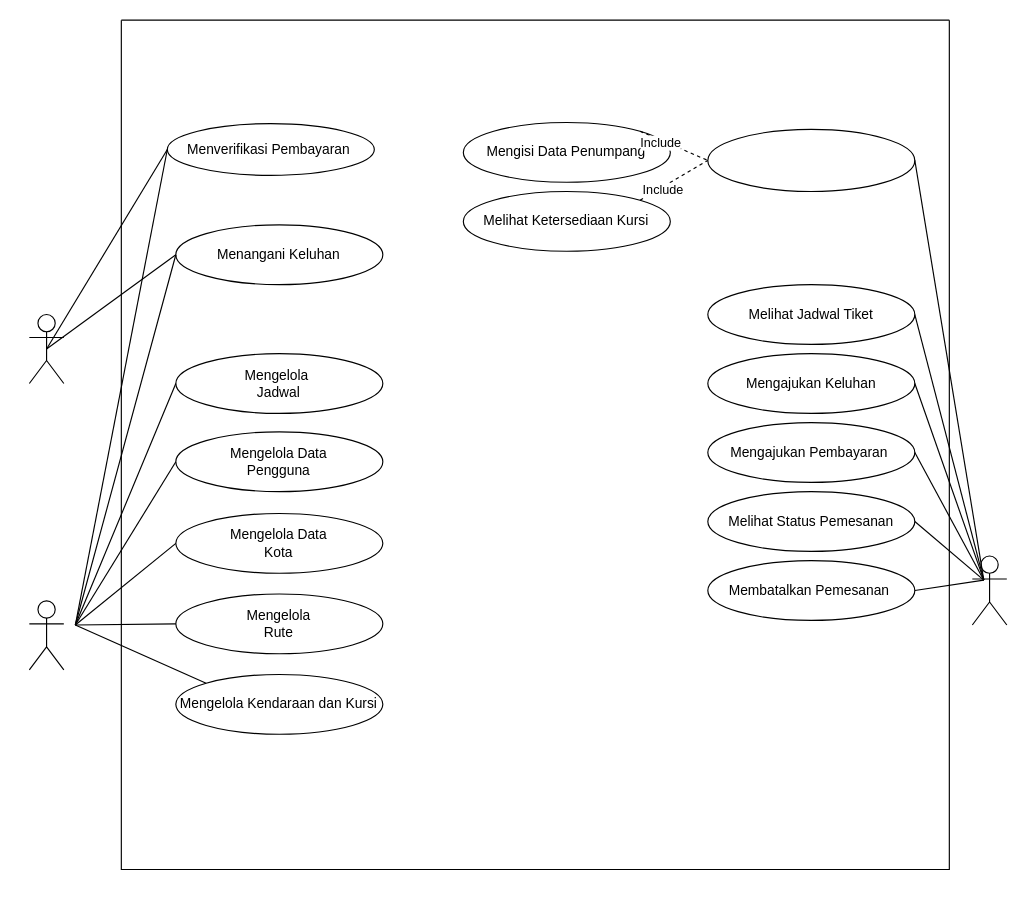
This 1035x899 diagram has some shape labels left out. Each missing label, with the centre of its shape:
Admin: the point at 46,635
Melakukan Pemesanan Tiket: the point at 811,159
Member: the point at 989,590
Operator: the point at 46,348
